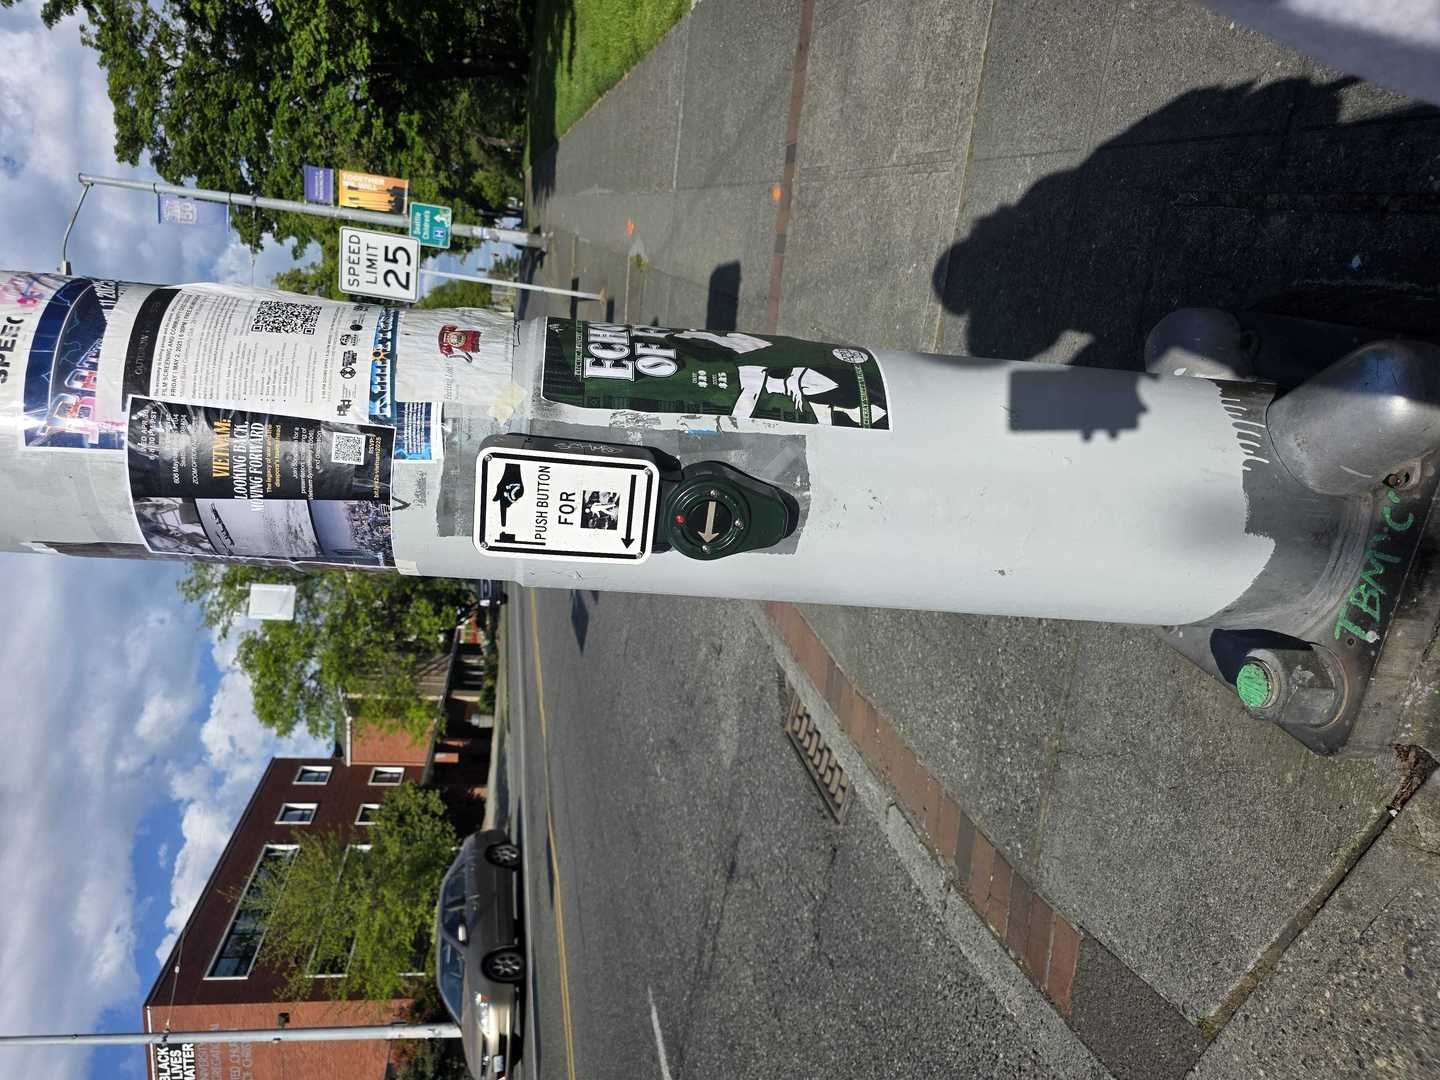ped_button: (474, 448, 795, 572)
